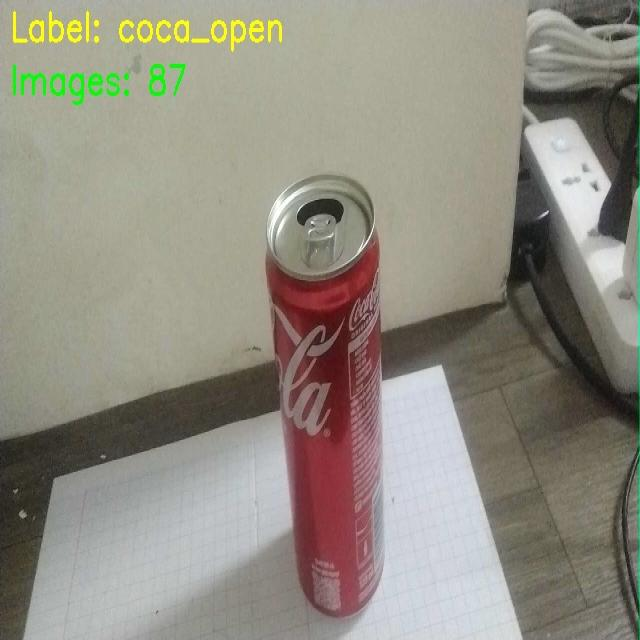Coca_open: (248, 172, 418, 617)
